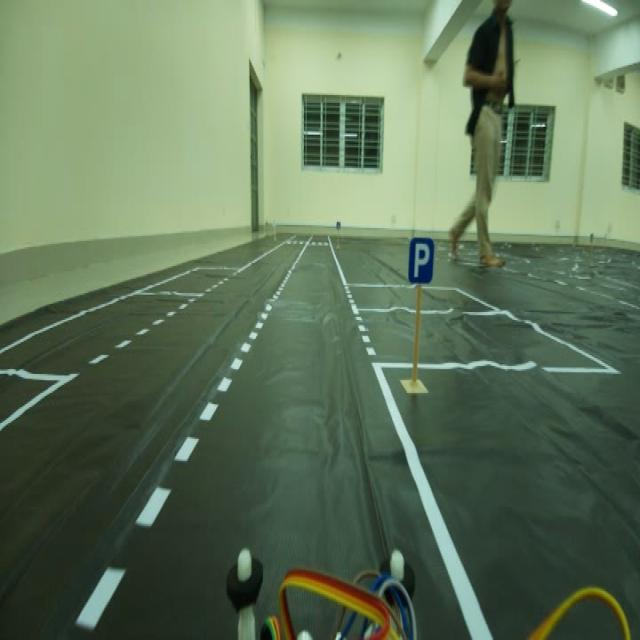parking: (404, 228, 438, 296)
